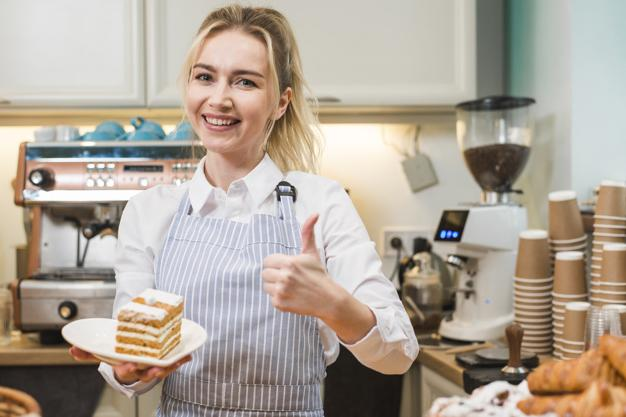thumbsup: (262, 213, 320, 308)
